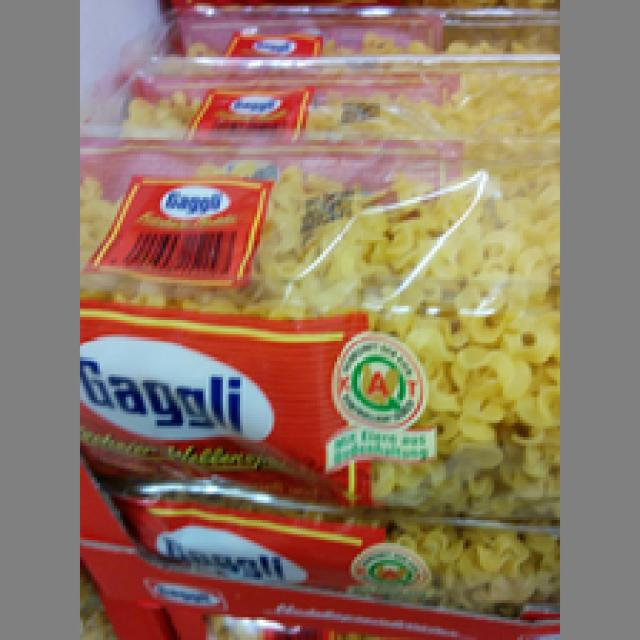groceries: (77, 137, 554, 520), (80, 20, 557, 134)
